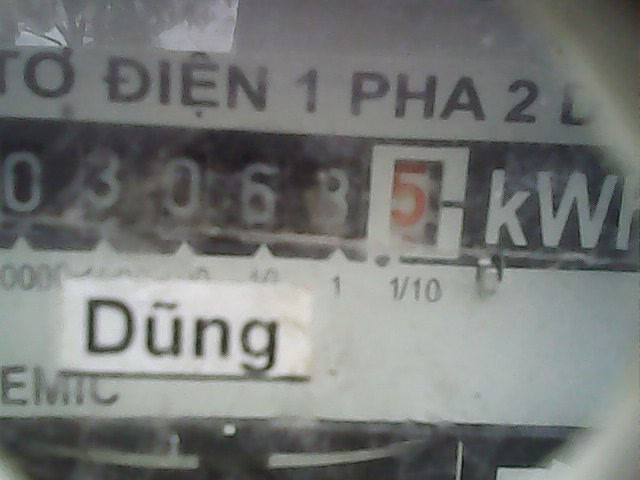phy_plate: (1, 116, 483, 272)
